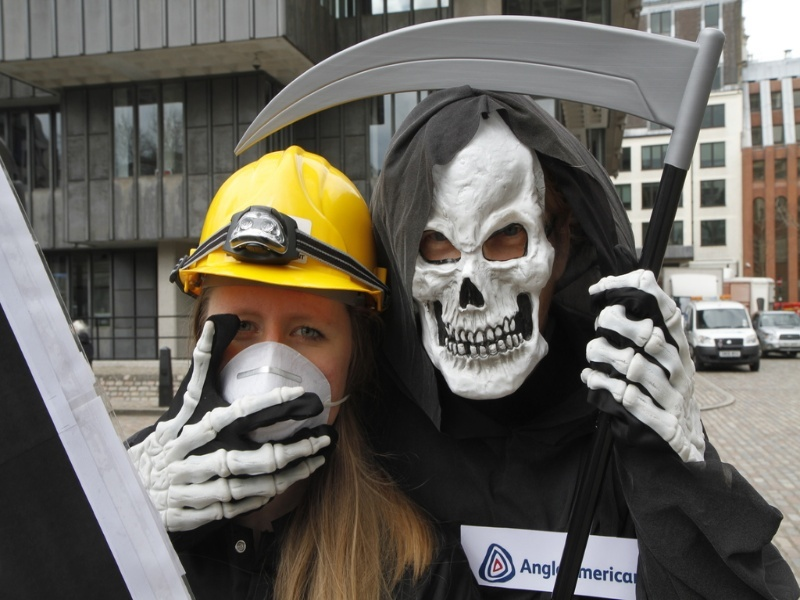Baret: (178, 145, 390, 329)
